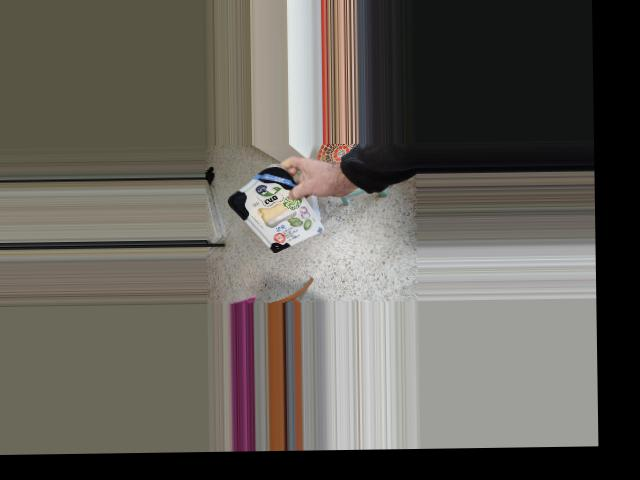cheese: (229, 161, 317, 262)
